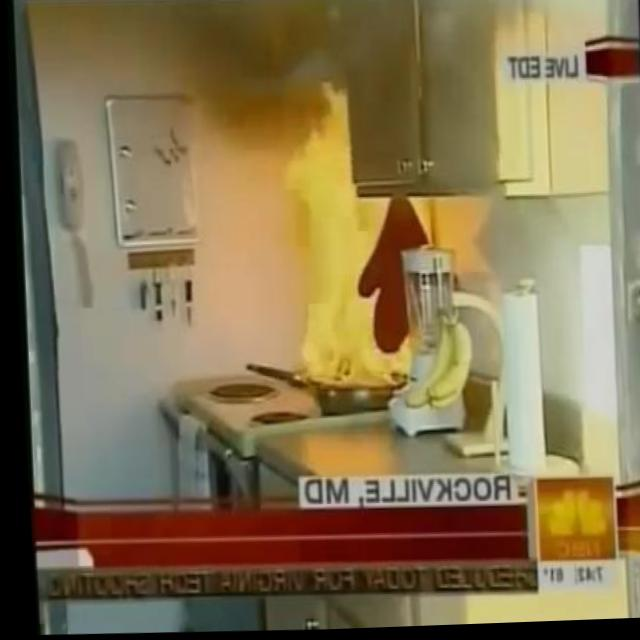fire: (283, 172, 411, 403)
